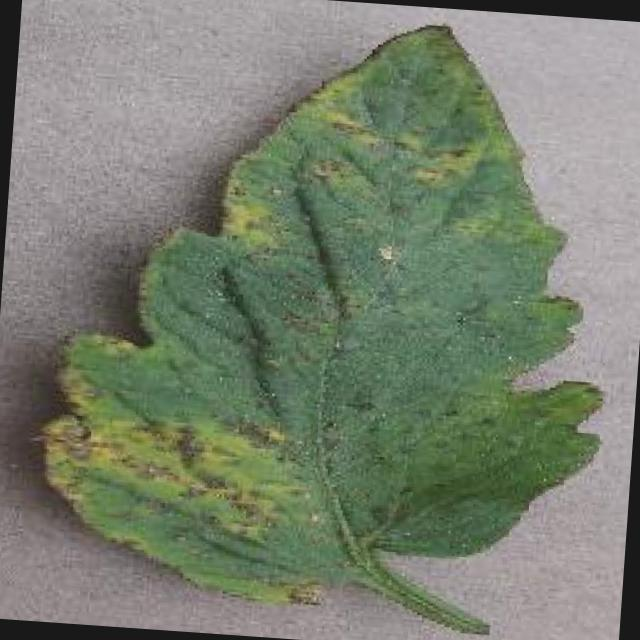bacterial spot: (40, 26, 605, 623)
